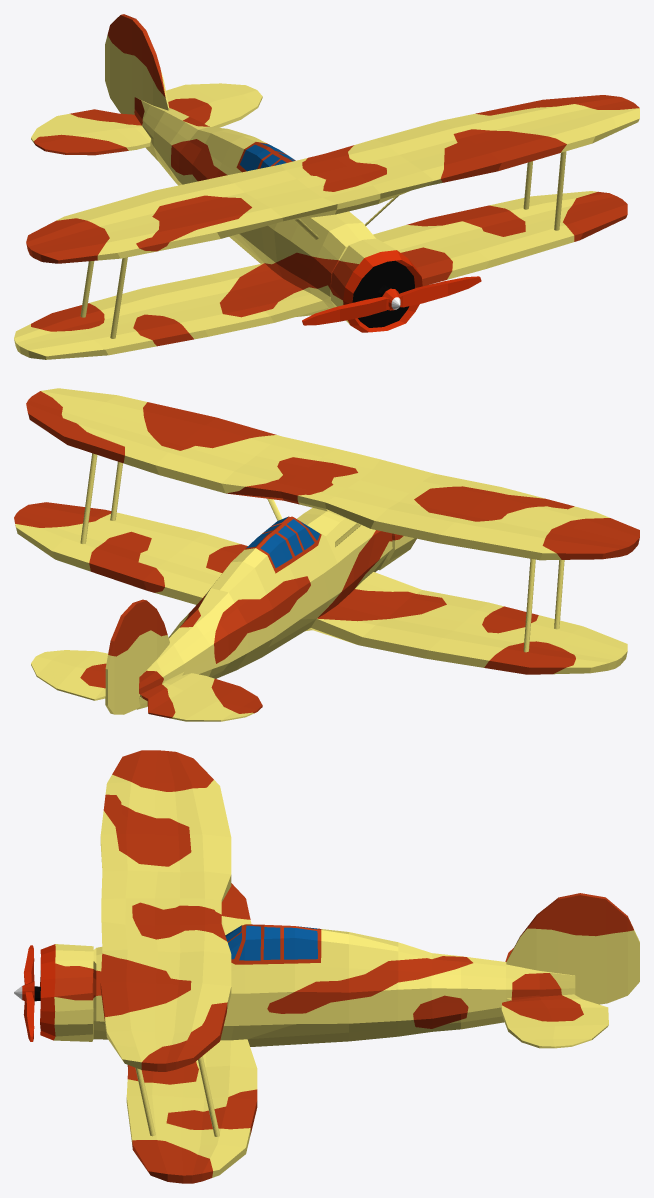
Rendered from Gladiator.fbx.
3 renders of one model, top to bottom at view 1: azimuth 30°, elevation 25°; view 2: azimuth 150°, elevation 25°; view 3: azimuth 270°, elevation 25°, orthographic. The views are drawn at different scales.
Visible parts, largest first — view 1: Gladiator, Propeller; view 2: Gladiator; view 3: Gladiator, Propeller.
Part boxes in pixels (bbox=[...]): Gladiator: bbox=[14, 14, 639, 359]; Propeller: bbox=[302, 276, 481, 325]; Gladiator: bbox=[14, 388, 639, 721]; Gladiator: bbox=[14, 750, 639, 1183]; Propeller: bbox=[23, 945, 34, 1041].
Bounding box in the file's own units: 4.89 × 1.09 × 4.12.
